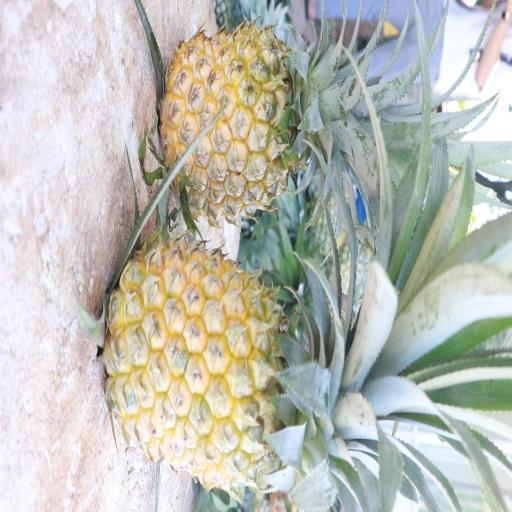Pineapple - v8 v1: (98, 234, 386, 497), (154, 18, 363, 227), (216, 154, 226, 158), (223, 112, 232, 112)
